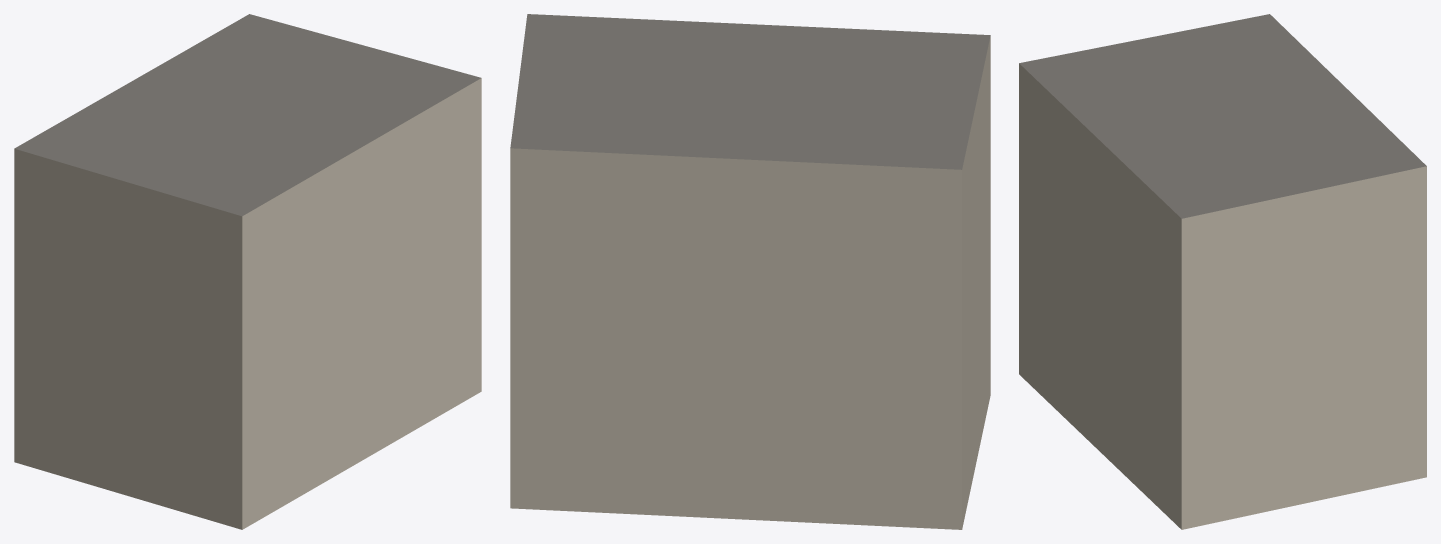
The picture shows the model from 3 angles, left to right: view 1: azimuth 30°, elevation 25°; view 2: azimuth 150°, elevation 25°; view 3: azimuth 270°, elevation 25°; orthographic projection. The views are drawn at different scales.
Parts seen in each view (by area): view 1: HP-w505653356; view 2: HP-w505653356; view 3: HP-w505653356.
Part boxes in pixels (x1=…): HP-w505653356: x1=14, y1=14, x2=481, y2=529; HP-w505653356: x1=510, y1=14, x2=990, y2=529; HP-w505653356: x1=1019, y1=14, x2=1426, y2=529.
Bounding box in the file's own units: 16.94 × 12 × 14.26.
